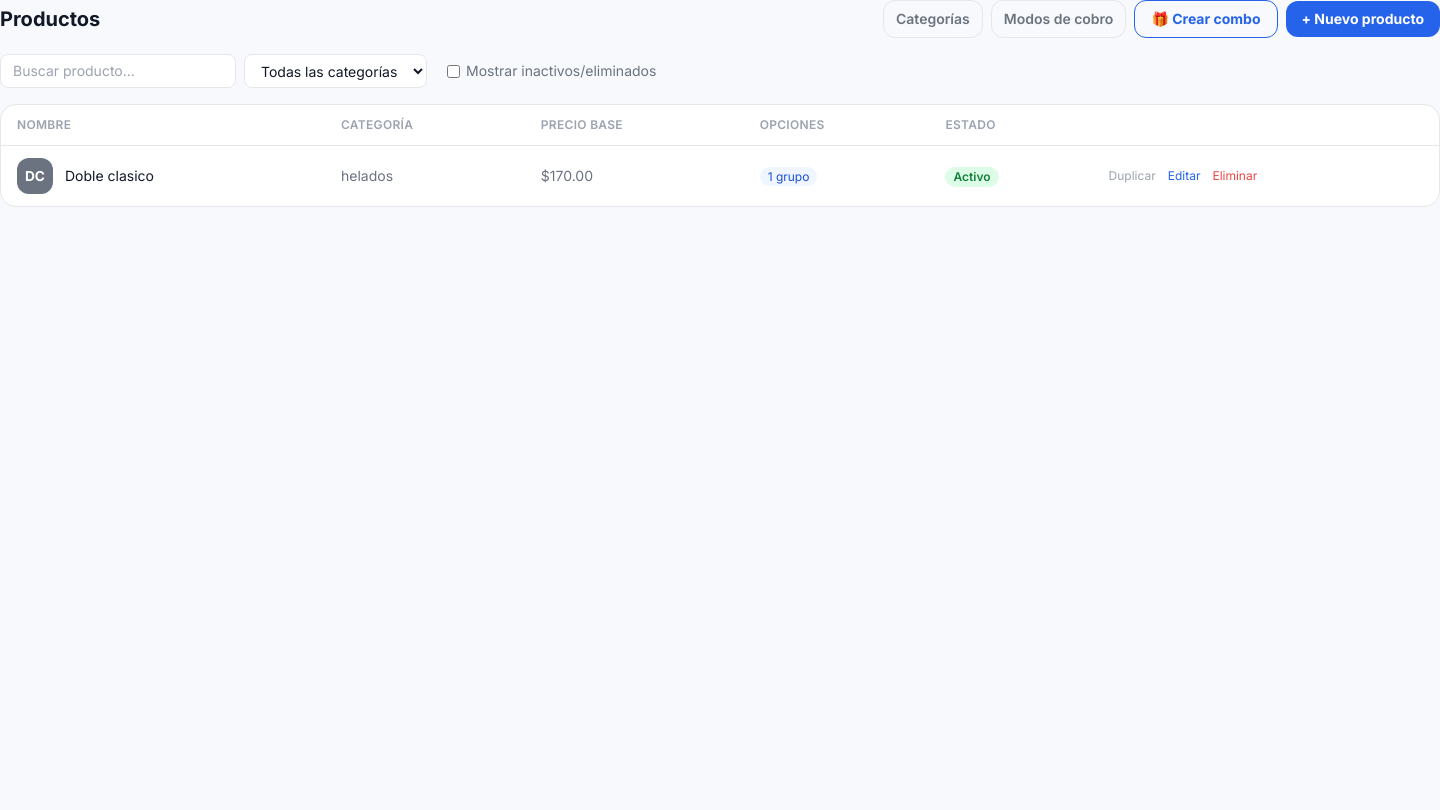
Scenario: ProductsPage — confirmacion de lo guardado › confirma al guardar, con lo que devolvio el servidor
expect the text "Doble clasico" is shown: met, box [65,166,154,186]
Click the button "Editar": (1184, 176) [1168,168,1200,184]
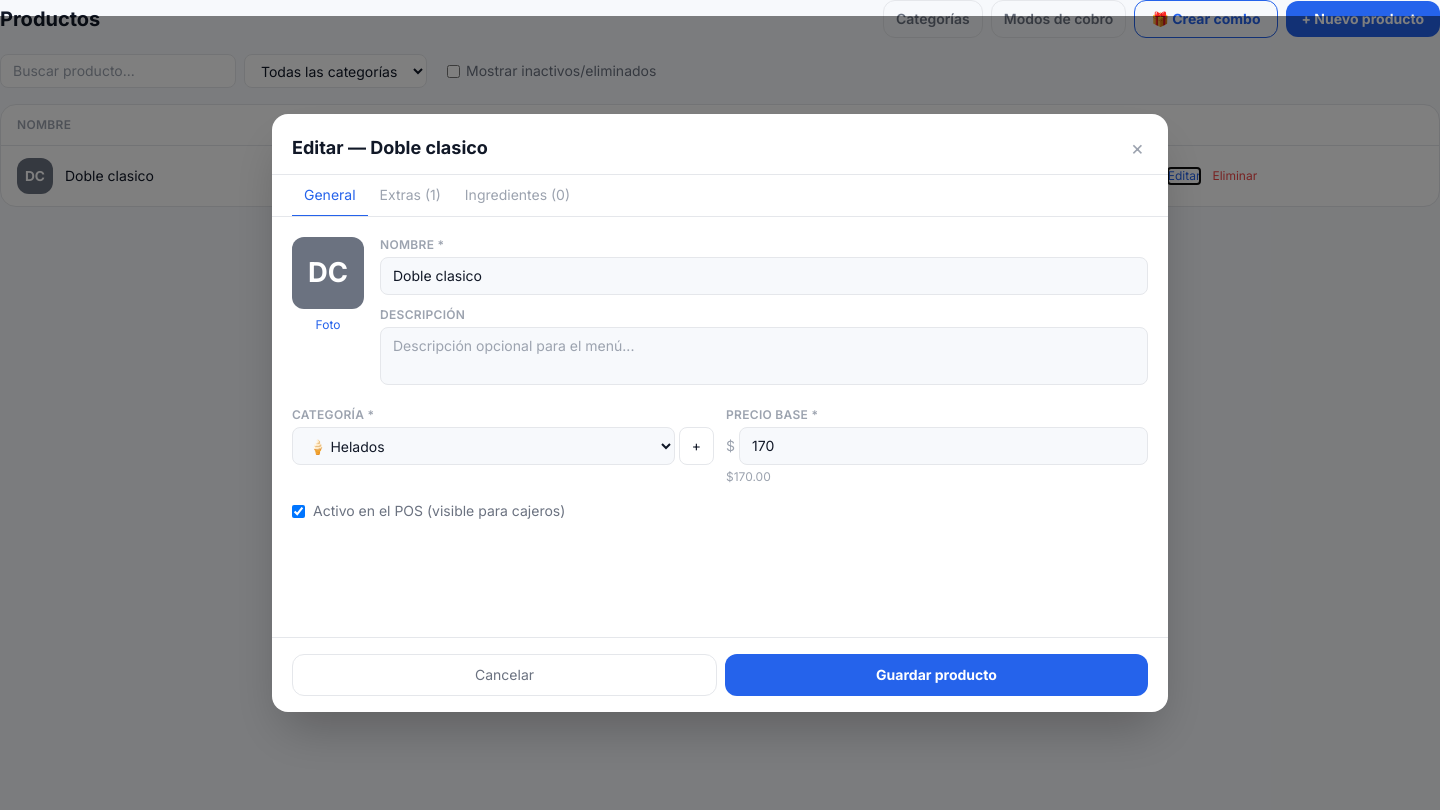
Click the button "Extras (1)": (410, 196) [368,175,453,217]
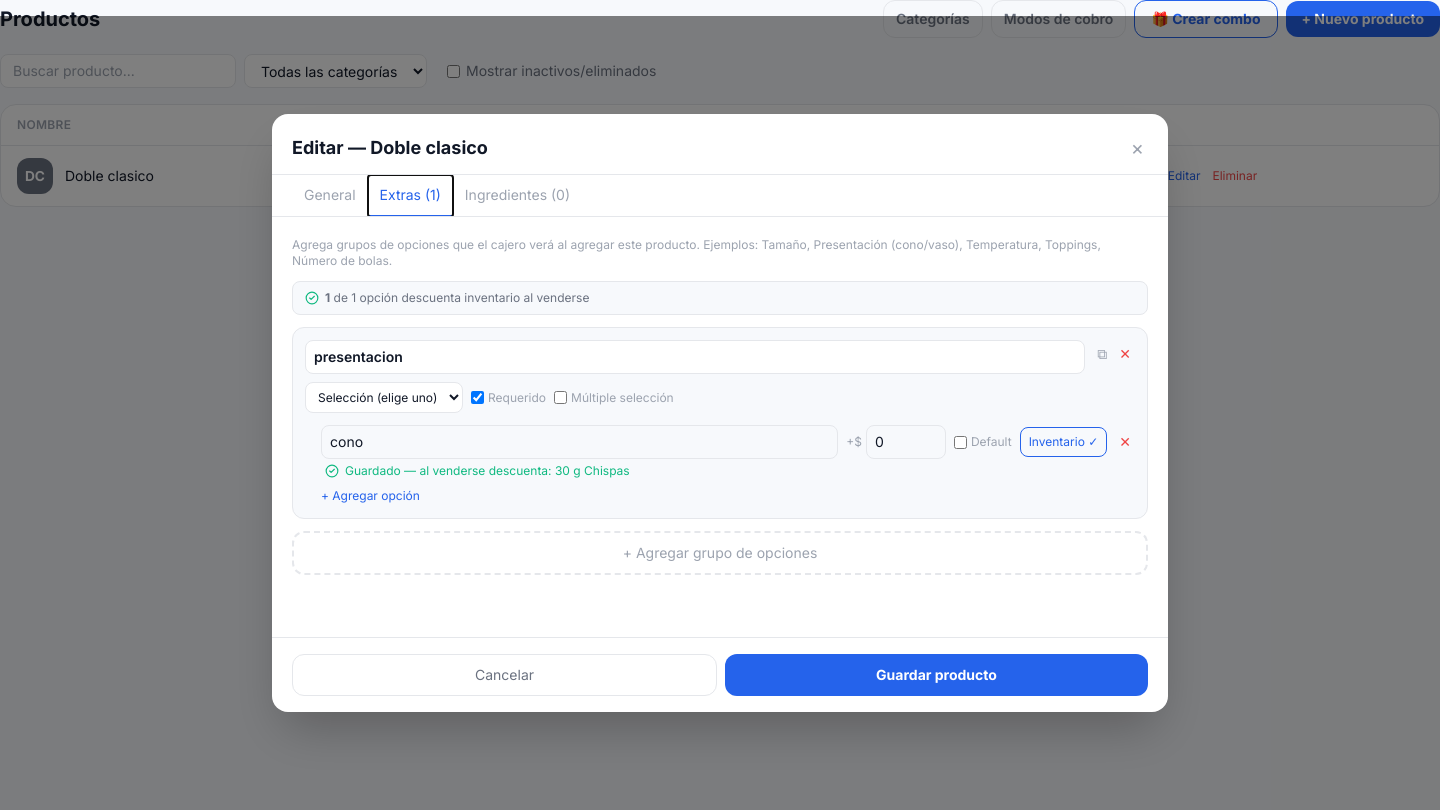
Click the button "Guardar producto": (936, 675) [725,654,1148,696]
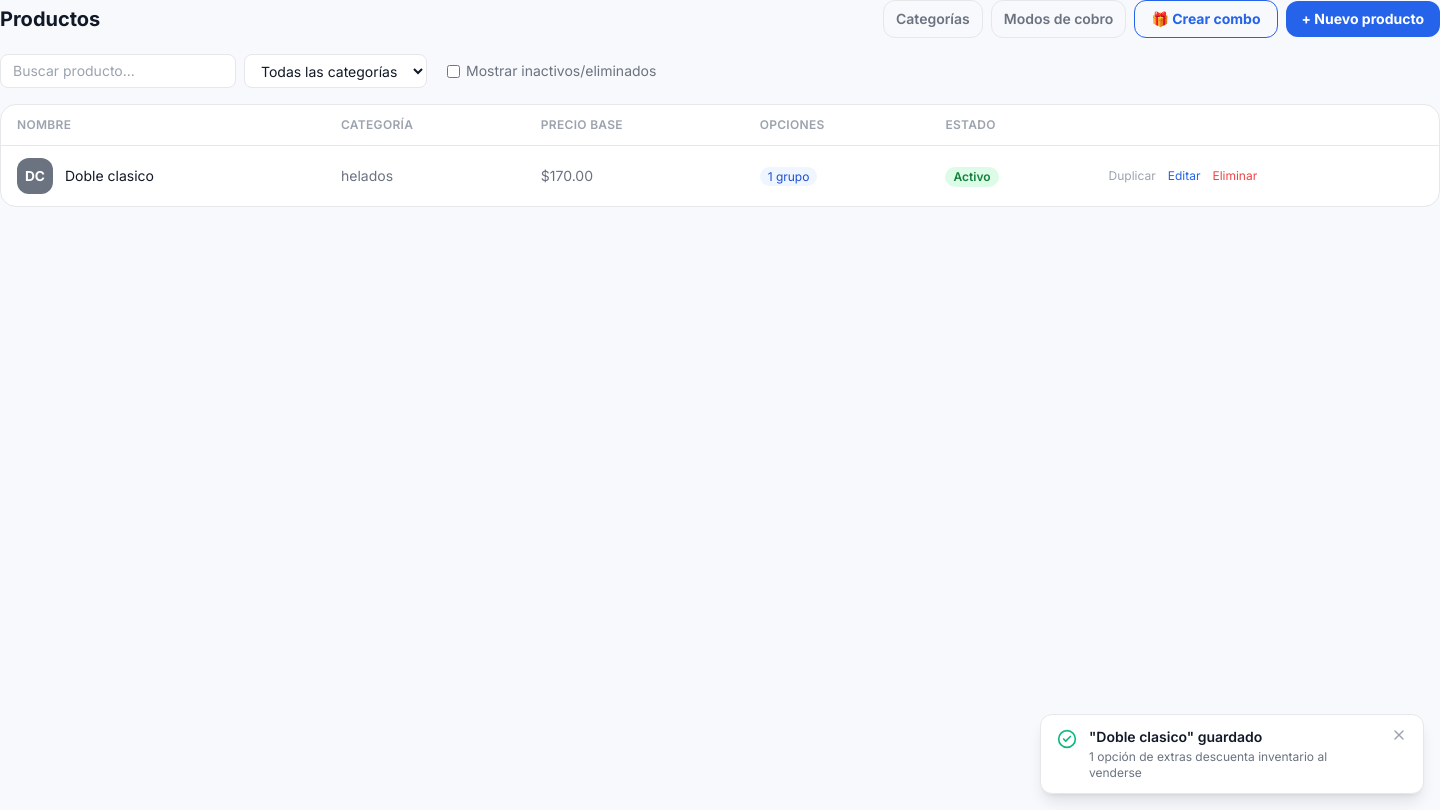
expect the text "\"Doble clasico\" guardado" is shown: met, box [1089,728,1262,745]
expect the text "1 opción de extras descuenta inventario al venderse" is shown: met, box [1089,749,1327,780]
